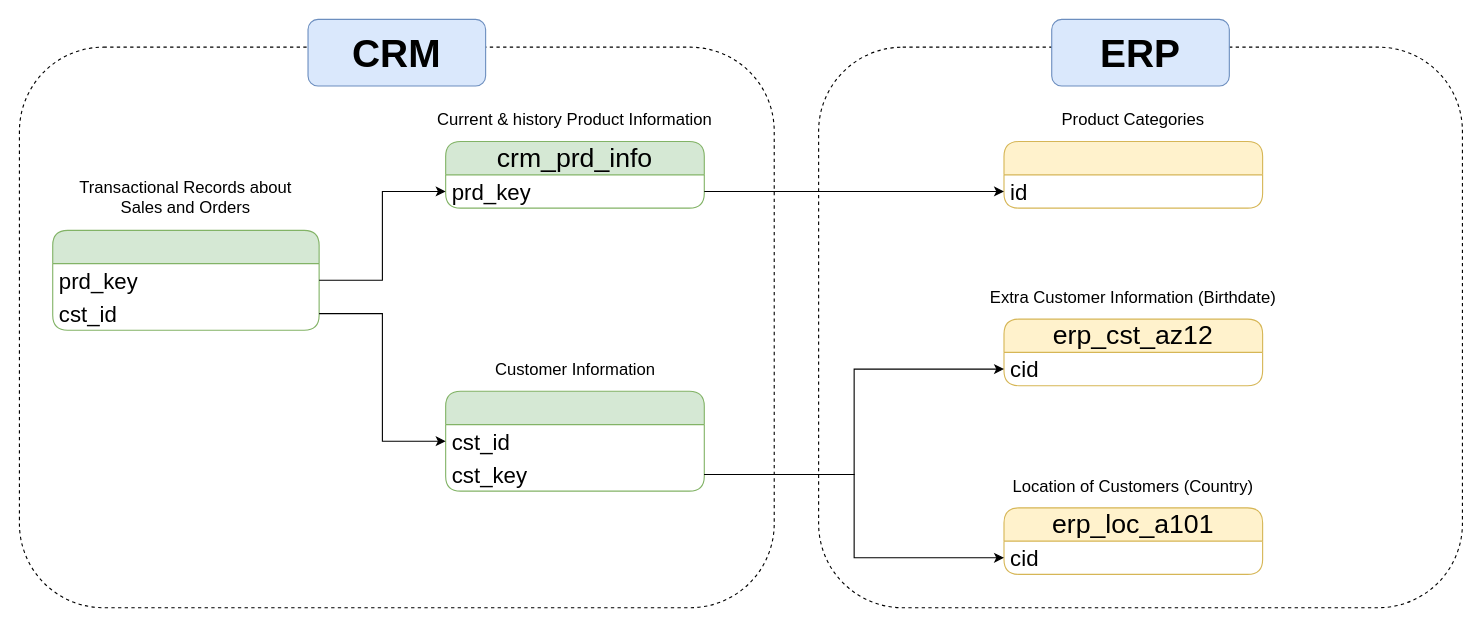
Some shapes in this 1482 by 627 pixel diagram are drawn without their labels. The box of each missing label's shape, as (x1, y1, x2, y2) in pixels:
crm_cst_info: (445, 390, 704, 491)
crm_sales_details: (52, 229, 319, 330)
erp_px_cat_g1v2: (1003, 140, 1263, 208)
